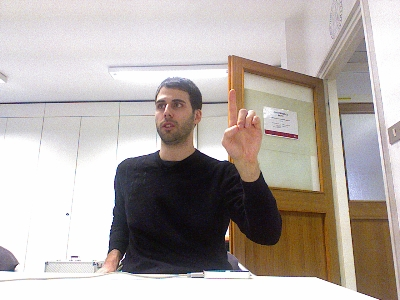食指: (220, 87, 264, 162)
